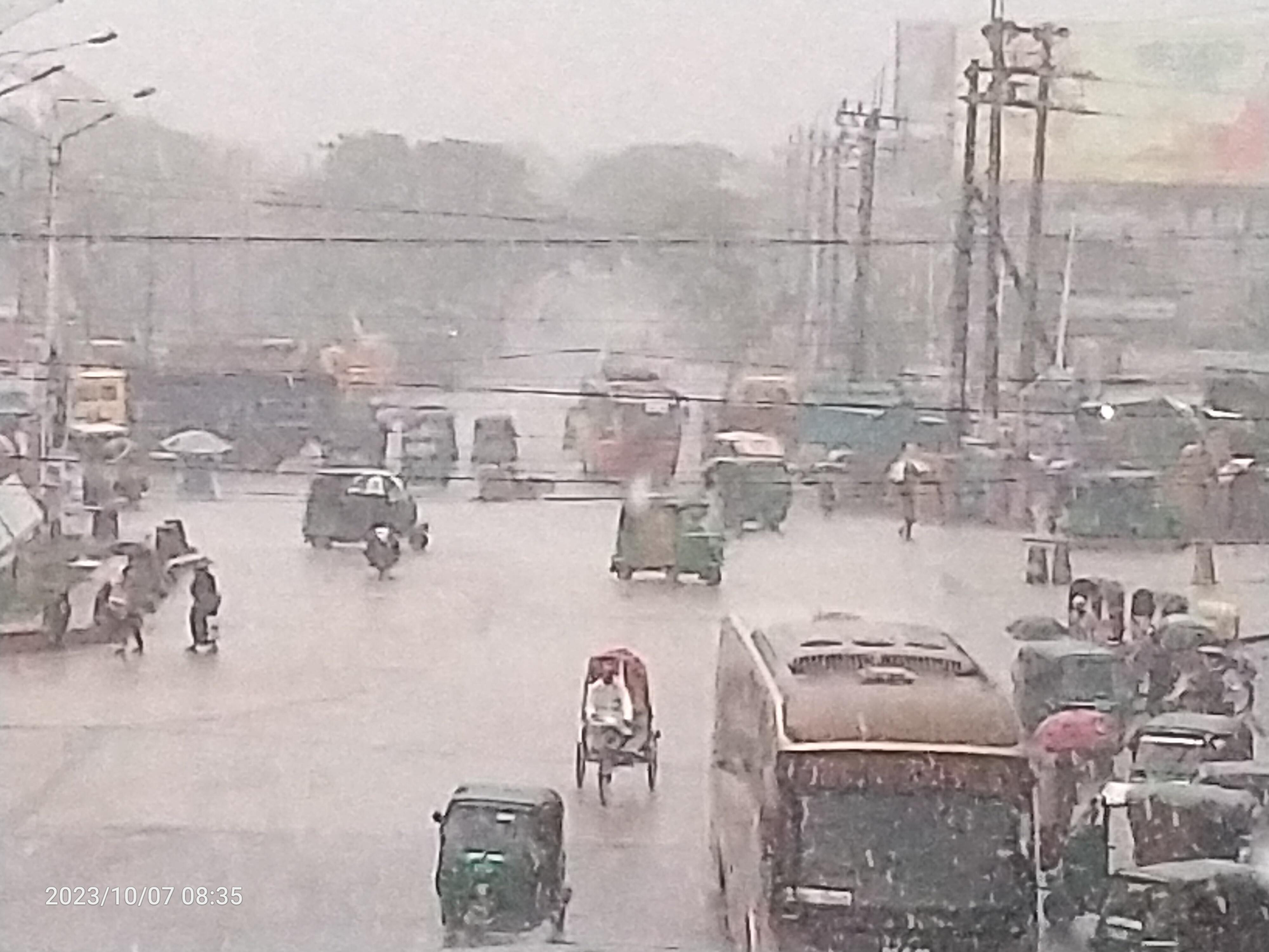Bike: (343, 460, 414, 591)
Bus: (684, 581, 1057, 952), (547, 338, 704, 500)
Car: (551, 638, 700, 822)
Truck: (42, 307, 323, 497)
